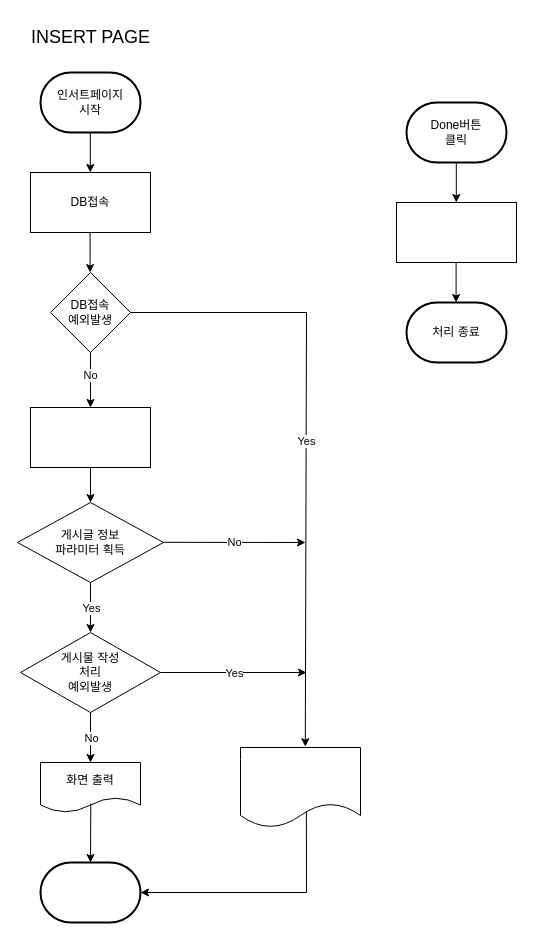
This 534x940 diagram has some shape labels left out. The shapes that lost their labels are listed below. From the top down, each one's centre as x and y in pixels, then its label:
At pixel 456 232: "리스트페이지로 이동".
At pixel 90 437: "DB에서 이미지정보 획득".
At pixel 300 787: "예외메세지 출력".
At pixel 90 892: "리스트페이지 종료".
